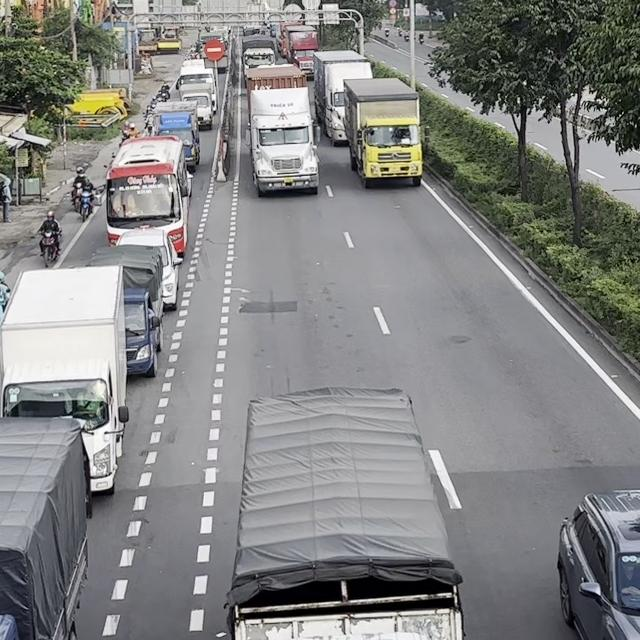bus: (175, 58, 217, 114)
car: (556, 488, 639, 639), (115, 227, 181, 311)
motorcycle: (37, 228, 62, 267), (74, 185, 95, 221), (69, 183, 82, 211)
truck: (223, 385, 466, 639), (0, 265, 128, 495), (0, 415, 90, 639), (107, 134, 192, 256), (86, 245, 163, 377), (245, 63, 320, 197), (342, 77, 423, 188), (312, 49, 373, 146), (151, 101, 200, 172), (241, 34, 284, 91), (279, 22, 319, 63), (179, 83, 213, 131)
